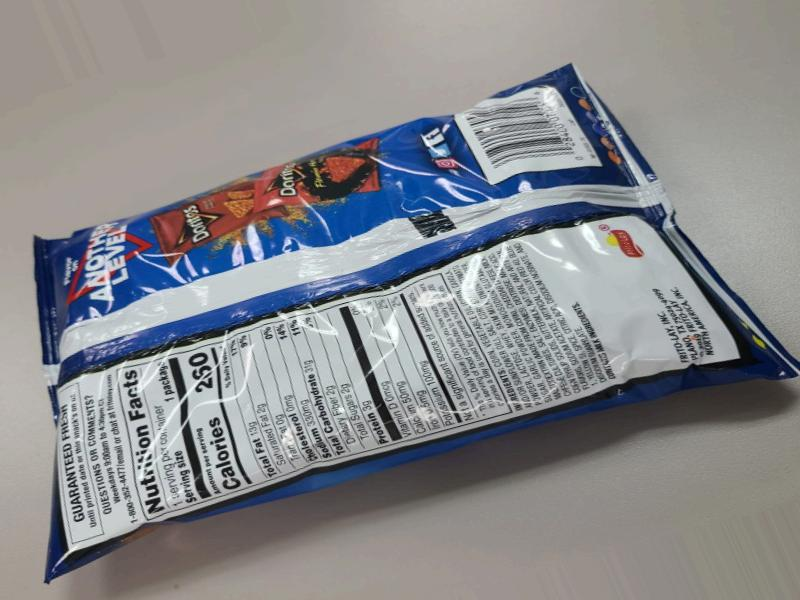doritos: (27, 126, 800, 583)
